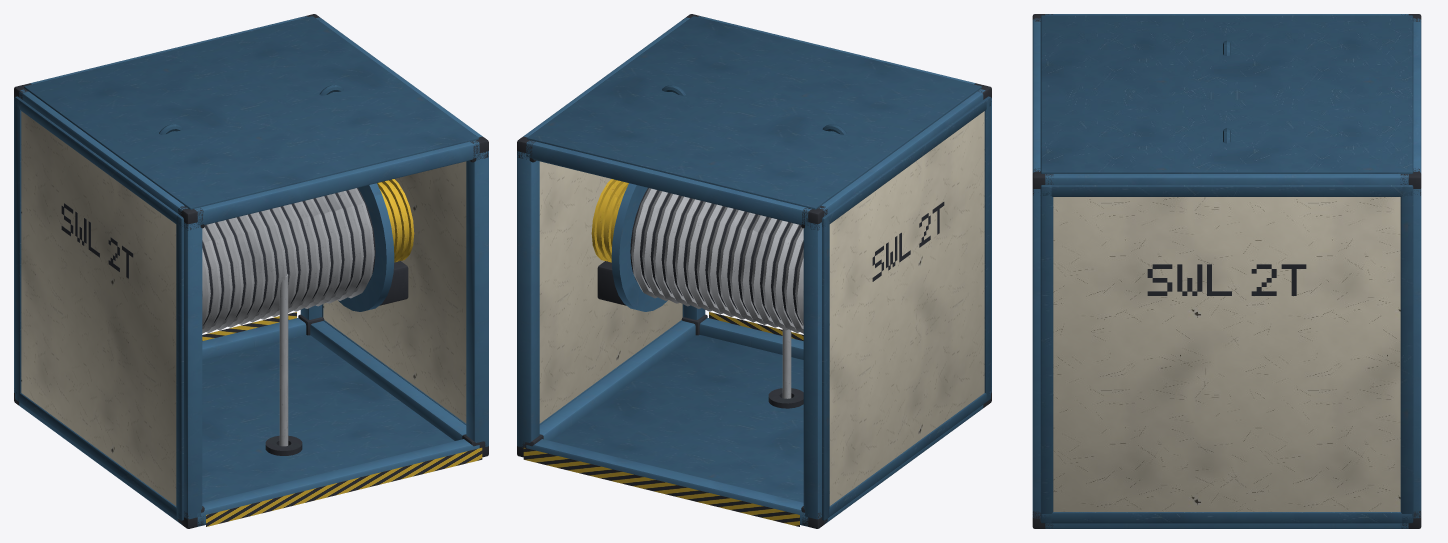
Rendered from crane_body.glb.
3 renders of one model, left to right at view 1: azimuth 30°, elevation 25°; view 2: azimuth 150°, elevation 25°; view 3: azimuth 270°, elevation 25°, orthographic. The views are drawn at different scales.
Parts seen in each view (by area): view 1: CraneBodyBody; view 2: CraneBodyBody; view 3: CraneBodyBody.
Part boxes in pixels (x1,y1,x2,y2): CraneBodyBody: (14,14,488,528); CraneBodyBody: (517,14,991,528); CraneBodyBody: (1032,14,1421,528).
Size of the model in its own units: 0.9586 by 0.993 by 0.999.
7 materials, 7 textured.
